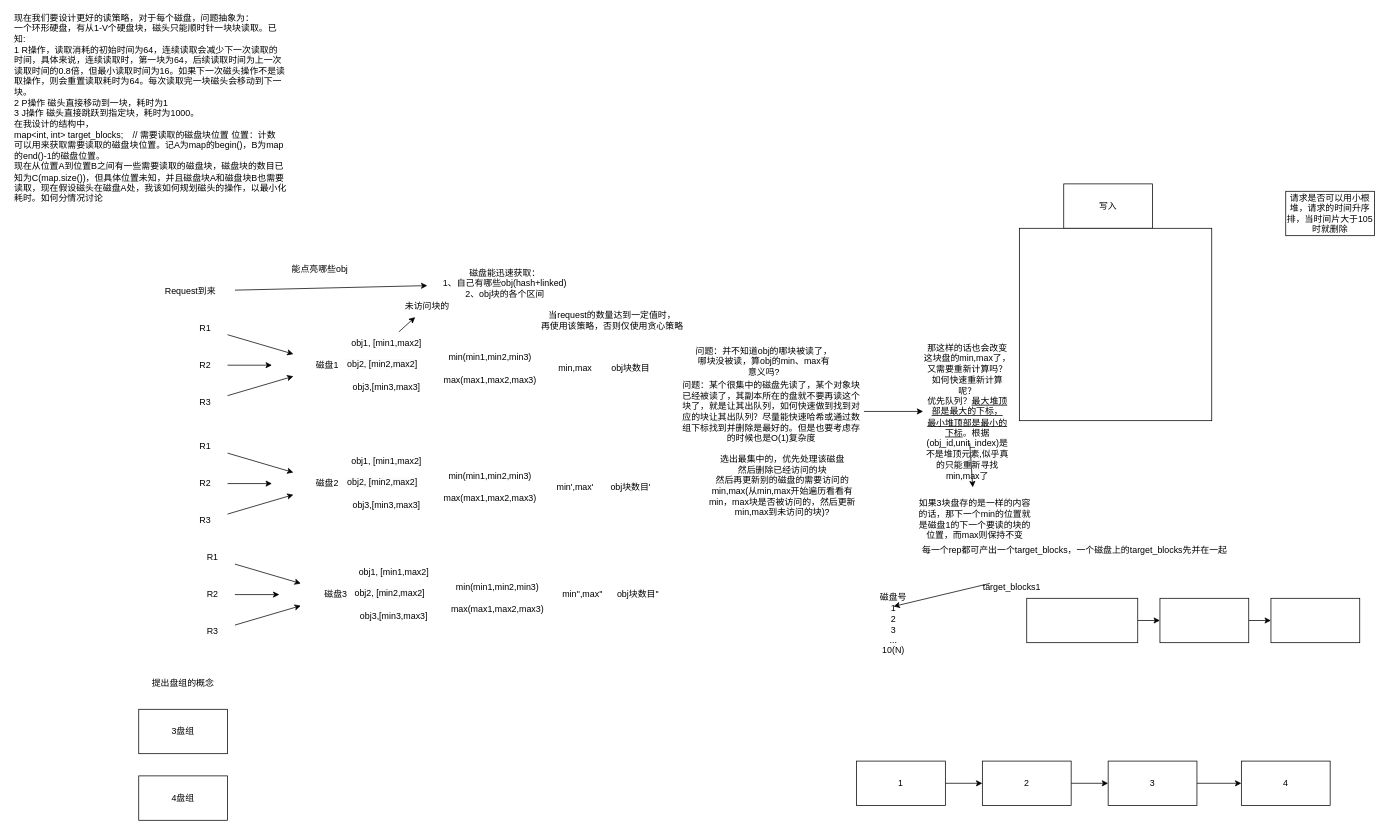
Image size: 1388x833. Some labels were removed from this diagram. Here are the shapes that lost their labels. From the top down, the centre of each, then its label:
At pixel 1115 324: "1.%2写入，为奇数的是正着写，为偶数的是倒着写，只要选两个副本读，并且先读奇数，再读偶数的，还一个副本可以不管。特殊情况是没有一奇一偶，那就正常读，".
At pixel 1082 620: "block_id,obj_id,units_index".
